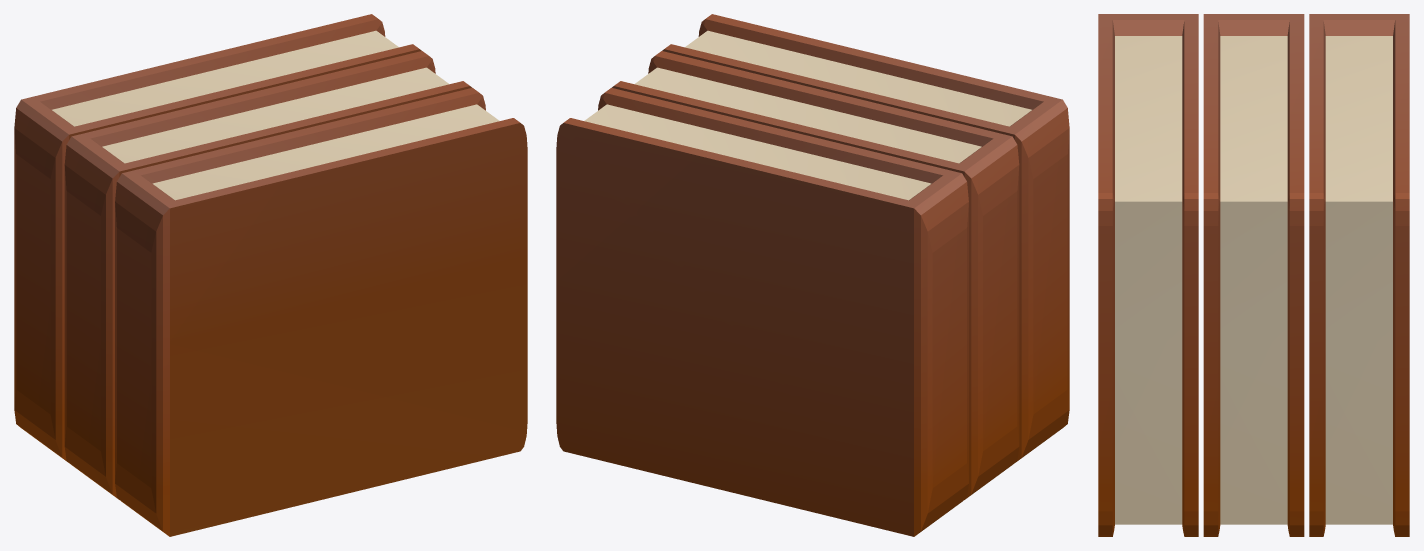
The model's file is maze piece book group  wizards table clutterT1.fbx.
3 renders of one model, left to right at view 1: azimuth 30°, elevation 25°; view 2: azimuth 150°, elevation 25°; view 3: azimuth 270°, elevation 25°, orthographic. The views are drawn at different scales.
Parts seen in each view (by area): view 1: FrMaz Book collection; view 2: FrMaz Book collection; view 3: FrMaz Book collection.
Part boxes in pixels (<box>): FrMaz Book collection: <box>14,14,527,536</box>; FrMaz Book collection: <box>556,14,1069,536</box>; FrMaz Book collection: <box>1098,14,1409,536</box>.
Size of the model in its own units: 890 by 756 by 620.
